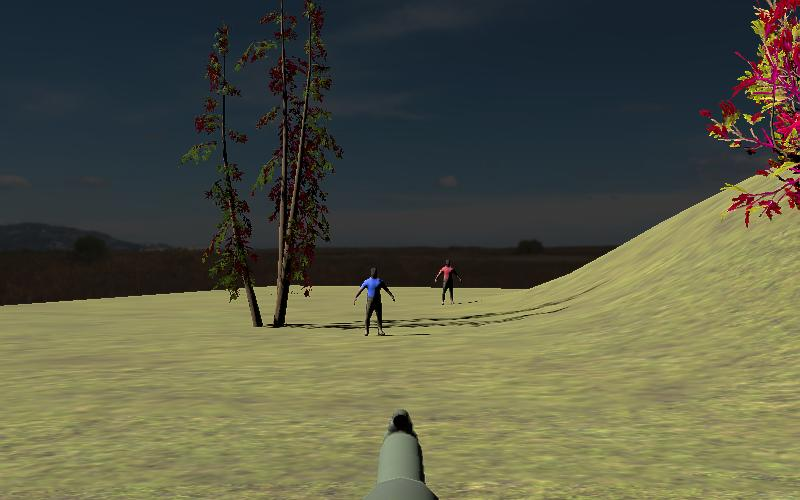Human: (354, 265, 396, 337), (435, 258, 462, 305)
